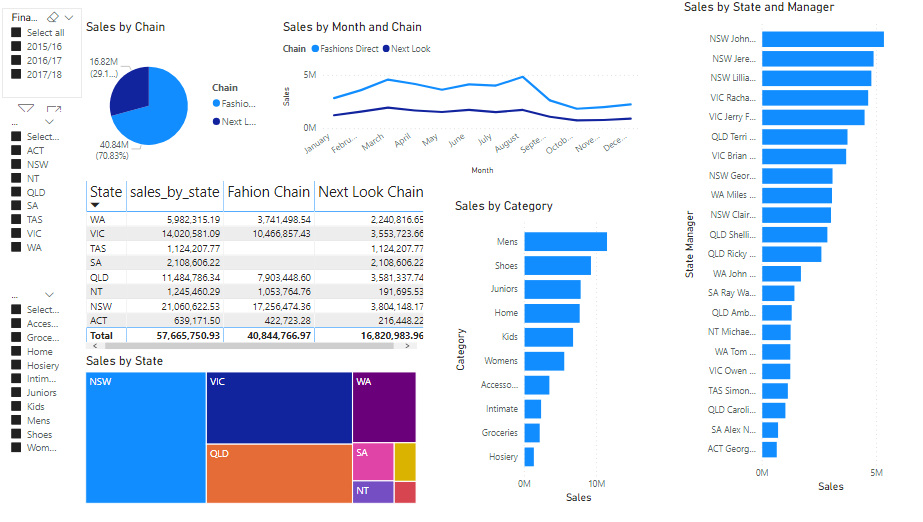

Layout of this report page (visuals, bound fields, positions):
{"tool":"powerbi","page":{"name":"Sales Report","canvas":[1280,720],"ordinal":0},"visuals":[{"type":"pieChart","fields":{"Y":["Fact-Data.Sales"],"Category":["Fact-Data.Chain"]},"box":[115.6,27.5,258.8,217.5],"z":1000},{"type":"barChart","fields":{"Y":["Fact-Data.Sales"],"Category":["Dim-Location.State","Dim-Manager.Manager"]},"box":[939,0,315.8,683.7],"z":2000},{"type":"barChart","fields":{"Y":["Fact-Data.Sales"],"Category":["Dim-Category.Category"]},"box":[623.2,273.8,267.1,425],"z":3000},{"type":"treemap","fields":{"Values":["Fact-Data.Sales"],"Details":["Dim-Location.State"]},"box":[115.6,487.2,465.2,212],"z":4000},{"type":"tableEx","fields":{"Values":["Dim-Location.State","Dim-Manager.sales_by_state","Dim-Category.Fahion Chain","Dim-Category.Next Look Chain"]},"box":[115.6,245,475,242.3],"z":5000},{"type":"slicer","fields":{"Values":["Dim-Date.Financial Year"]},"box":[5,11.8,110.9,124.3],"z":6000},{"type":"slicer","fields":{"Values":["Dim-Location.State"]},"box":[5.5,155.6,84,210.6],"z":7000},{"type":"slicer","fields":{"Values":["Dim-Category.Category"]},"box":[5,393.1,84,290.6],"z":8000},{"type":"lineChart","fields":{"Y":["Fact-Data.Sales"],"Series":["Fact-Data.Chain"],"Category":["Dim-Date.Month.Variation.Date Hierarchy.Year","Dim-Date.Month.Variation.Date Hierarchy.Month"]},"box":[386.8,27.5,503.7,218.8],"z":8001}]}

Visuals, with their boxes on the page's 1280x720 design canvas (x1, y1, x2, y2). These are canvas units, not pixel positions in the 923x522 screenshot, which may show the page scaled, cropped or inside an application window:
pieChart - Fact-Data.Sales x Fact-Data.Chain: left=116, top=28, right=374, bottom=245
barChart - Fact-Data.Sales x Dim-Location.State: left=939, top=0, right=1255, bottom=684
barChart - Fact-Data.Sales x Dim-Category.Category: left=623, top=274, right=890, bottom=699
treemap - Fact-Data.Sales x Dim-Location.State: left=116, top=487, right=581, bottom=699
tableEx - Dim-Location.State x Dim-Manager.sales_by_state: left=116, top=245, right=591, bottom=487
slicer - Dim-Date.Financial Year: left=5, top=12, right=116, bottom=136
slicer - Dim-Location.State: left=6, top=156, right=90, bottom=366
slicer - Dim-Category.Category: left=5, top=393, right=89, bottom=684
lineChart - Fact-Data.Sales x Fact-Data.Chain: left=387, top=28, right=890, bottom=246
